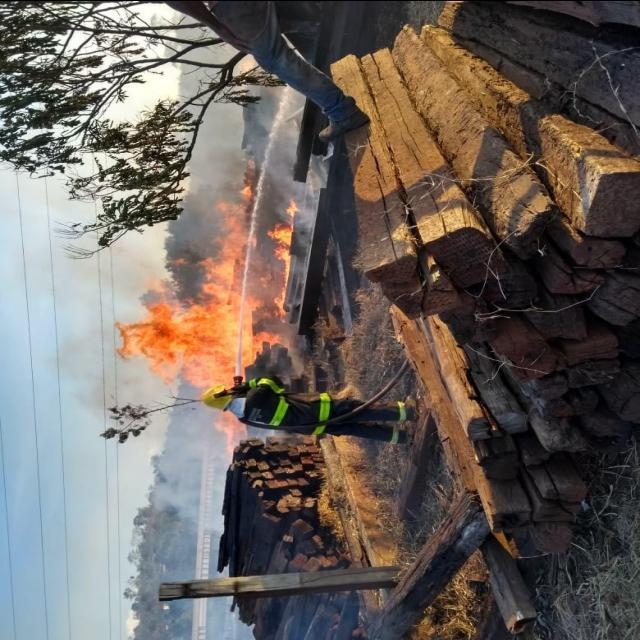Fire: (122, 208, 248, 439), (273, 203, 293, 314)
